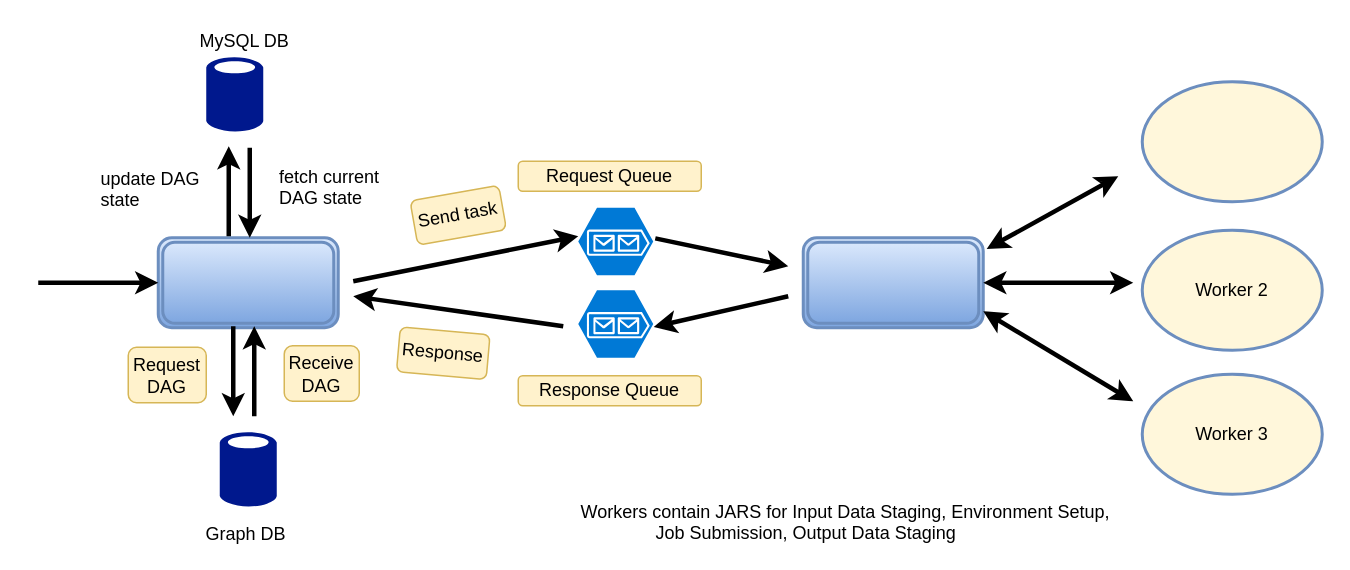
Some shapes in this 1350 by 570 pixel diagram are drawn without their labels. The box of each missing label's shape, as (x1, y1, x2, y2) in pixels:
Orchestrator: (156, 236, 339, 328)
Scheduler: (801, 236, 984, 328)
Worker 1: (1140, 80, 1323, 202)
